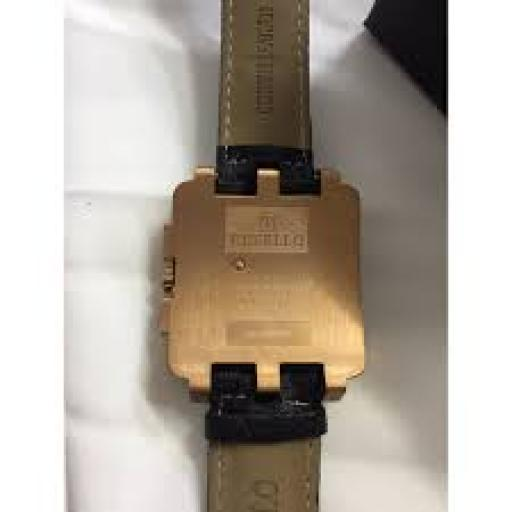KolSaati: (110, 0, 404, 512)
